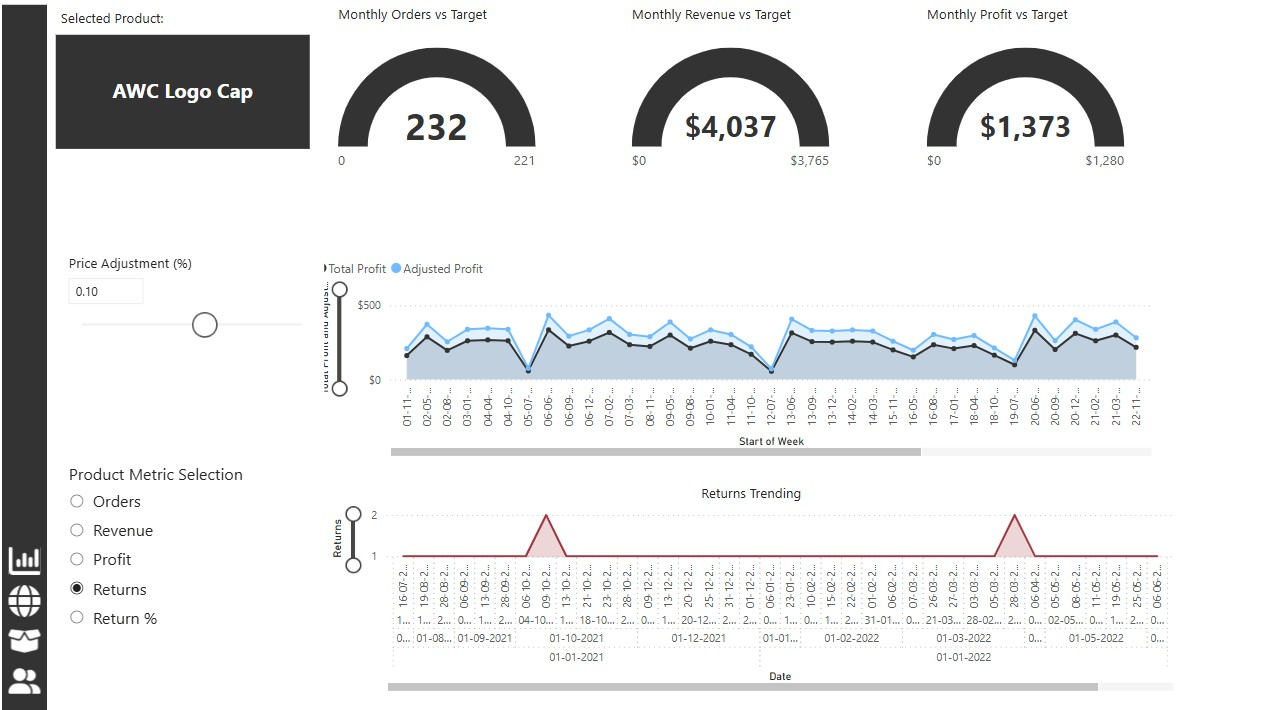

Layout of this report page (visuals, bound fields, positions):
{"tool":"powerbi","page":{"name":"Product Detail","canvas":[1280,720],"ordinal":2},"visuals":[{"type":"actionButton","box":[12.8,547.3,51,39.8],"z":0,"group":"g1"},{"type":"gauge","title":"Monthly Orders vs Target","fields":{"Y":["Measure Table.Total Orders"],"MaxValue":["Measure Table.Order Target"]},"box":[339.6,13.7,206.5,194.1],"z":0},{"type":"gauge","title":"Monthly Revenue vs Target","fields":{"Y":["Measure Table.Total Revenue"],"MaxValue":["Measure Table.Revenue Target"]},"box":[632.6,13.7,206.5,194.1],"z":1000},{"type":"actionButton","box":[12.8,587.1,51,39.8],"z":1000,"group":"g1"},{"type":"gauge","title":"Monthly Profit vs Target","fields":{"Y":["Measure Table.Total Profit"],"MaxValue":["Measure Table.Profit Target"]},"box":[925.5,13.7,206.5,194.1],"z":2000},{"type":"actionButton","box":[12.8,626.9,51,39.8],"z":2000,"group":"g1"},{"type":"actionButton","box":[12.8,666.7,51,39.8],"z":3000,"group":"g1"},{"type":"areaChart","title":"Profit Trending","fields":{"Y":["Measure Table.Total Profit","Measure Table.Adjusted Profit"],"Category":["Calendar Lookup.Date Hierarchy.Start of Year","Calendar Lookup.Date Hierarchy.Start of Month","Calendar Lookup.Date Hierarchy.Start of Week","Calendar Lookup.Date Hierarchy.Date"]},"box":[317.2,256.3,842.2,211.5],"z":3000},{"type":"areaChart","title":"Returns Trending","fields":{"Y":["Measure Table.Total Returns"],"Category":["Calendar Lookup.Date Hierarchy.Start of Year","Calendar Lookup.Date Hierarchy.Start of Month","Calendar Lookup.Date Hierarchy.Start of Week","Calendar Lookup.Date Hierarchy.Date"]},"box":[330.9,490.1,849.6,211.5],"z":4000},{"type":"card","fields":{"Values":["Min(Product Lookup.ProductName)"]},"box":[64,44.1,253.2,113.8],"z":5000},{"type":"textbox","box":[64,12.8,227.6,29.9],"z":6000},{"type":"shape","box":[10,13.4,44.8,706.6],"z":7000},{"type":"group","id":"g1","title":"Navigation Buttons","box":[12.8,547.3,51,159.2],"z":8000},{"type":"slicer","fields":{"Values":["Price Adjustment (%).Price Adjustment (%)"]},"box":[63.4,256.3,267.5,211.5],"z":9000},{"type":"slicer","fields":{"Values":["Product Metric Selection.Product Metric Selection"]},"box":[63.4,464,266.2,235.1],"z":10000}]}

Visuals, with their boxes on the page's 1280x720 design canvas (x1, y1, x2, y2). These are canvas units, not pixel positions in the 1277x710 screenshot, which may show the page scaled, cropped or inside an application window:
actionButton: {"left": 13, "top": 547, "right": 64, "bottom": 587}
"Monthly Orders vs Target" gauge: {"left": 340, "top": 14, "right": 546, "bottom": 208}
"Monthly Revenue vs Target" gauge: {"left": 633, "top": 14, "right": 839, "bottom": 208}
actionButton: {"left": 13, "top": 587, "right": 64, "bottom": 627}
"Monthly Profit vs Target" gauge: {"left": 926, "top": 14, "right": 1132, "bottom": 208}
actionButton: {"left": 13, "top": 627, "right": 64, "bottom": 667}
actionButton: {"left": 13, "top": 667, "right": 64, "bottom": 706}
"Profit Trending" areaChart: {"left": 317, "top": 256, "right": 1159, "bottom": 468}
"Returns Trending" areaChart: {"left": 331, "top": 490, "right": 1180, "bottom": 702}
card - Min(Product Lookup.ProductName): {"left": 64, "top": 44, "right": 317, "bottom": 158}
textbox: {"left": 64, "top": 13, "right": 292, "bottom": 43}
shape: {"left": 10, "top": 13, "right": 55, "bottom": 720}
"Navigation Buttons" group: {"left": 13, "top": 547, "right": 64, "bottom": 706}
slicer - Price Adjustment (%).Price Adjustment (%): {"left": 63, "top": 256, "right": 331, "bottom": 468}
slicer - Product Metric Selection.Product Metric Selection: {"left": 63, "top": 464, "right": 330, "bottom": 699}
